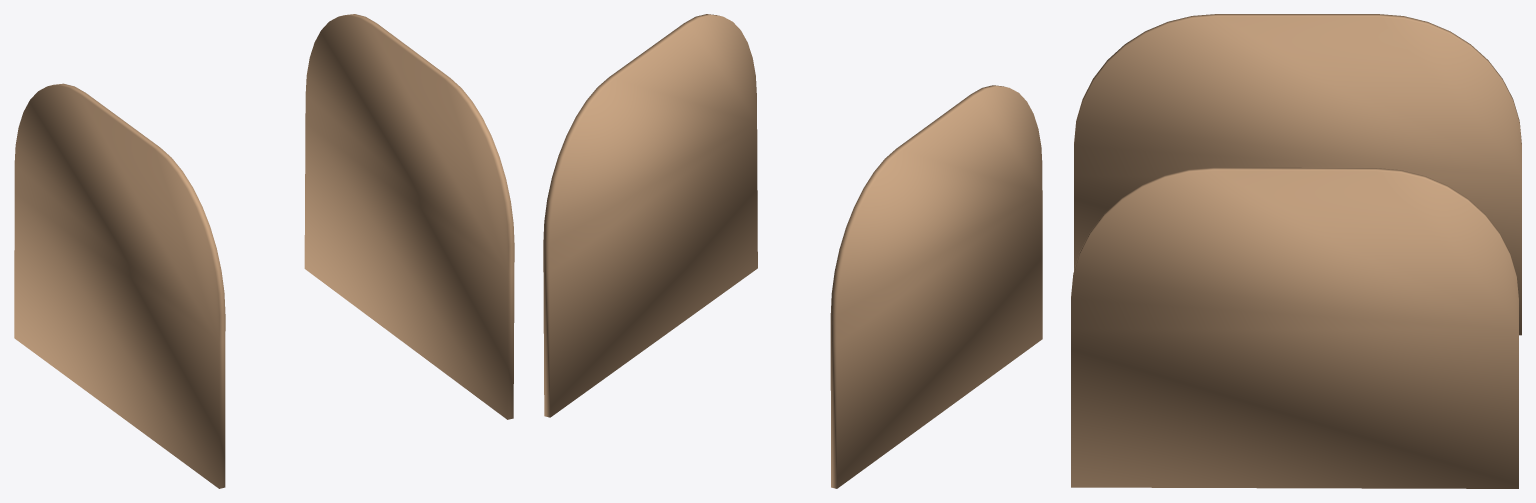
The model's file is cubiculo.001.fbx.
3 views of the same model, side by side, from view 1: azimuth 30°, elevation 25°; view 2: azimuth 150°, elevation 25°; view 3: azimuth 270°, elevation 25° (orthographic). The views are drawn at different scales.
Visible parts, largest first — view 1: cubiculo.001; view 2: cubiculo.001; view 3: cubiculo.001.
Boxes of the visible parts, box(x1,y1,x2,y2) form: cubiculo.001: box(14, 14, 514, 488); cubiculo.001: box(543, 14, 1042, 488); cubiculo.001: box(1071, 14, 1521, 488).
Size of the model in its own units: 2.13 by 2 by 2.57.
